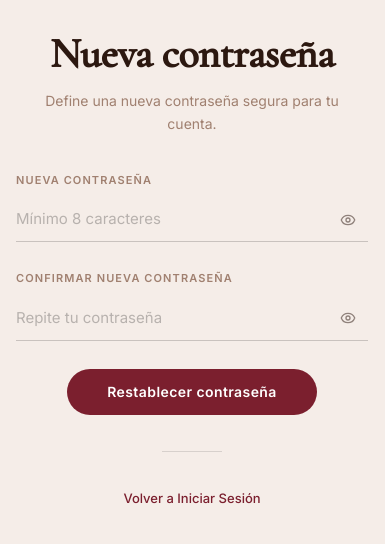
Test: RecuperarContrasena › password corta muestra error
Type "corta" into the password field labelled "Nueva contraseña" at (192, 220), box [16,197,368,242]
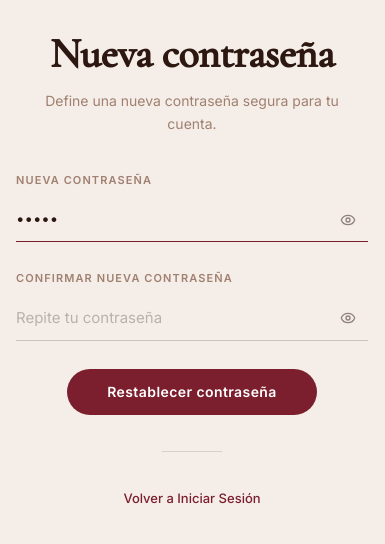
Type "corta" into the password field labelled "Confirmar nueva contraseña" at (192, 318), box [16,296,368,341]
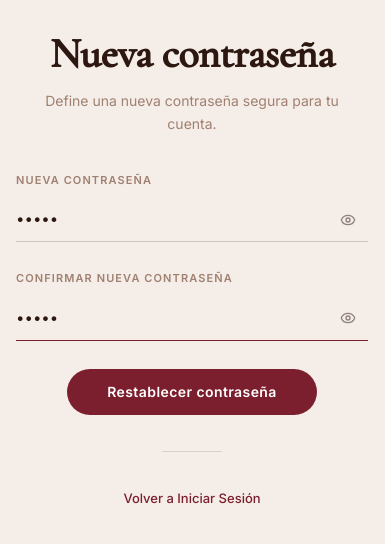
Click the button "Restablecer contraseña" at (192, 392), box [67,369,317,415]
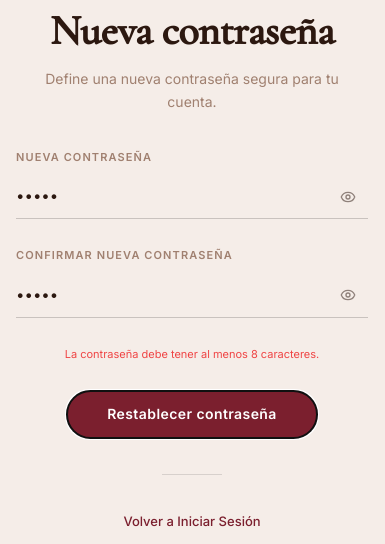
expect the text "La contraseña debe tener al menos 8 caracteres." is shown: met, box [65,346,319,364]
